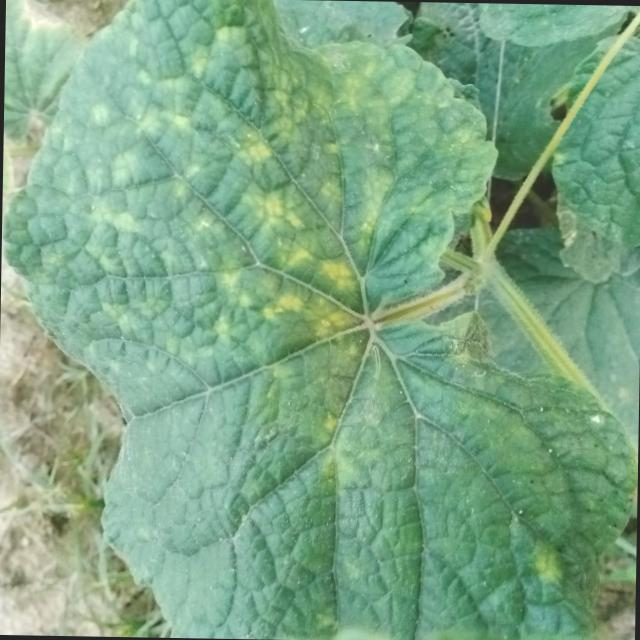cucumber_downy: (11, 11, 514, 371), (131, 366, 624, 640)
